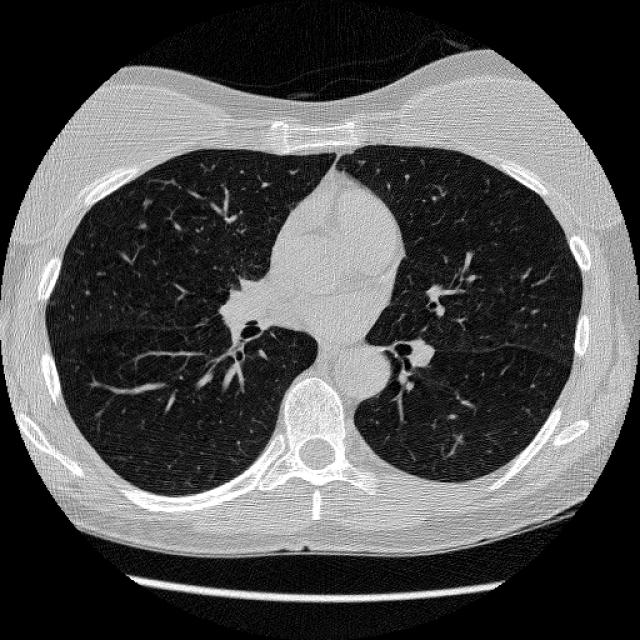nodule: (135, 191, 157, 214)
